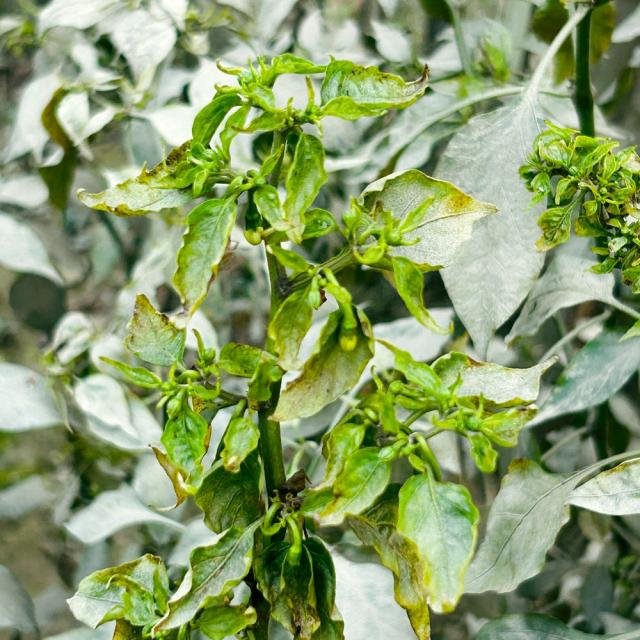Chilli_Leaf_Curl: (58, 44, 635, 638), (518, 118, 638, 292), (347, 167, 498, 273)
